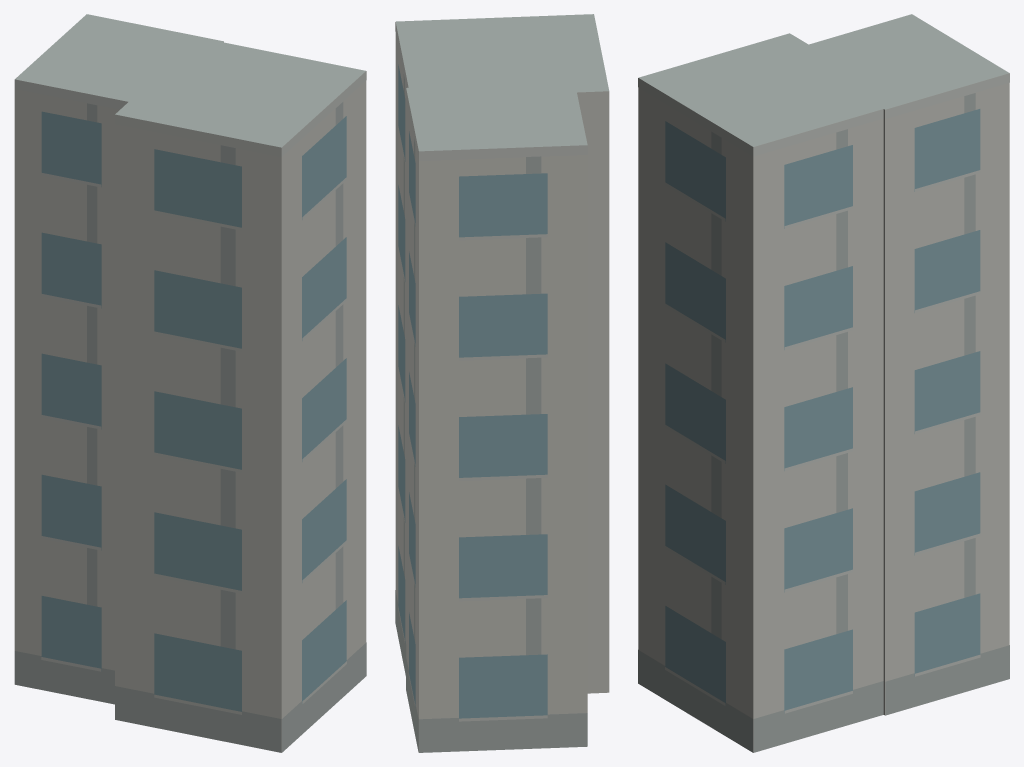
File: survey-upis-32772506.glb
3 renders of one model, left to right at view 1: azimuth 30°, elevation 25°; view 2: azimuth 150°, elevation 25°; view 3: azimuth 270°, elevation 25°, orthographic.
Visible parts, largest first — view 1: survey-upis-32772506.tmp; view 2: survey-upis-32772506.tmp; view 3: survey-upis-32772506.tmp.
Boxes of the visible parts, bbox=[...] form: survey-upis-32772506.tmp: bbox=[14, 14, 366, 752]; survey-upis-32772506.tmp: bbox=[395, 14, 609, 752]; survey-upis-32772506.tmp: bbox=[638, 14, 1009, 752].
Size of the model in its own units: 7.19 by 15.25 by 8.49.
